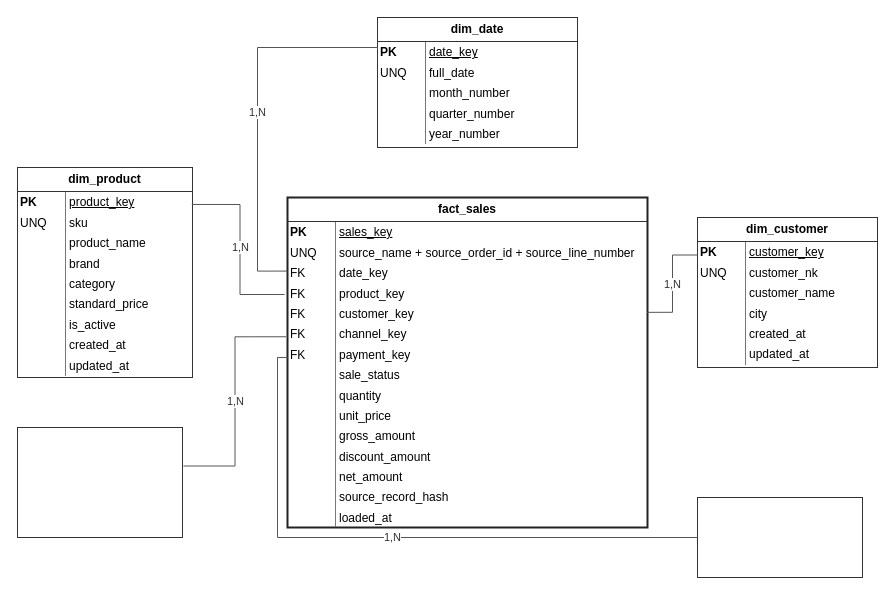
The diagram is 895 pixels wide and 595 high, and some of its shapes have lost their labels. The shapes that lost their labels are listed below. From the top down, each one's centre as x and y in pixels, then its label:
point (99, 482): dim_channel PK channel_key UNQ channel_code channel_name channel_type
point (779, 537): dim_payment PK payment_key UNQ payment_method
